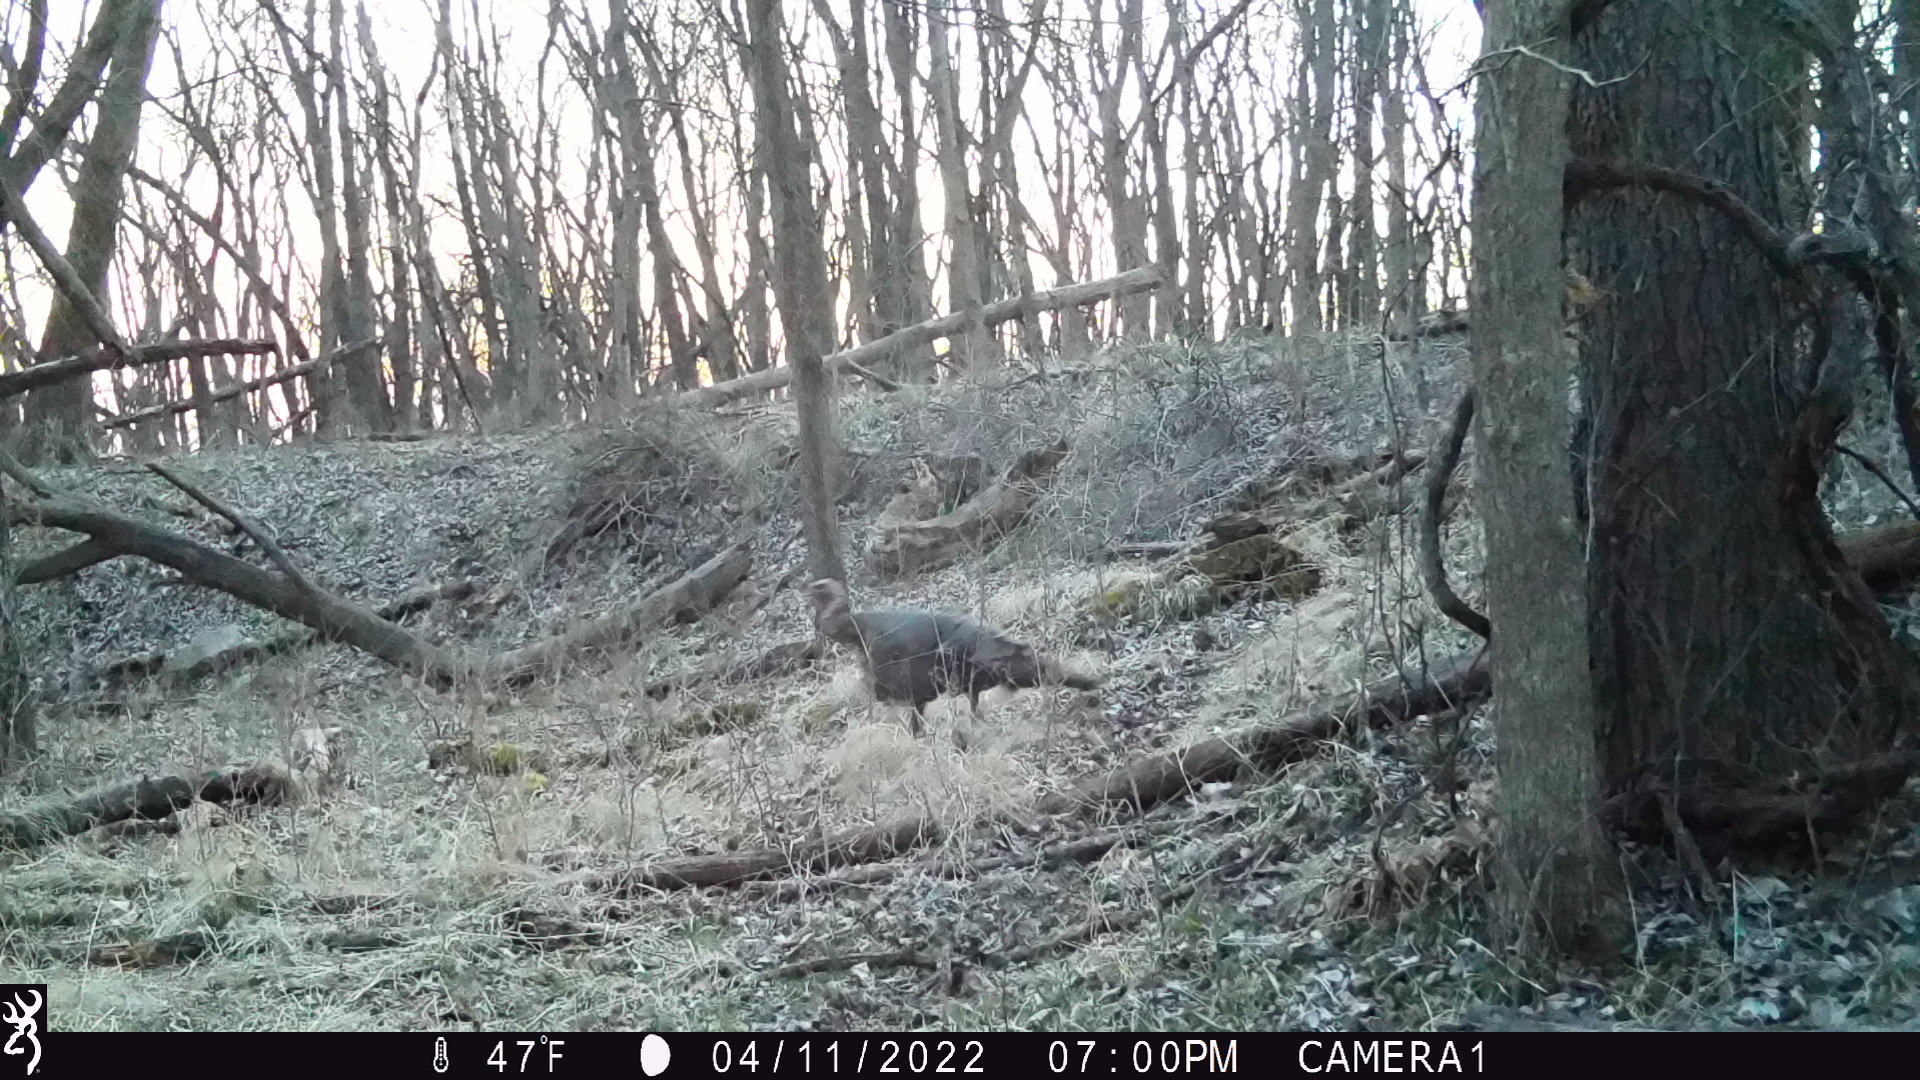Turkey: (798, 575, 1102, 708)
